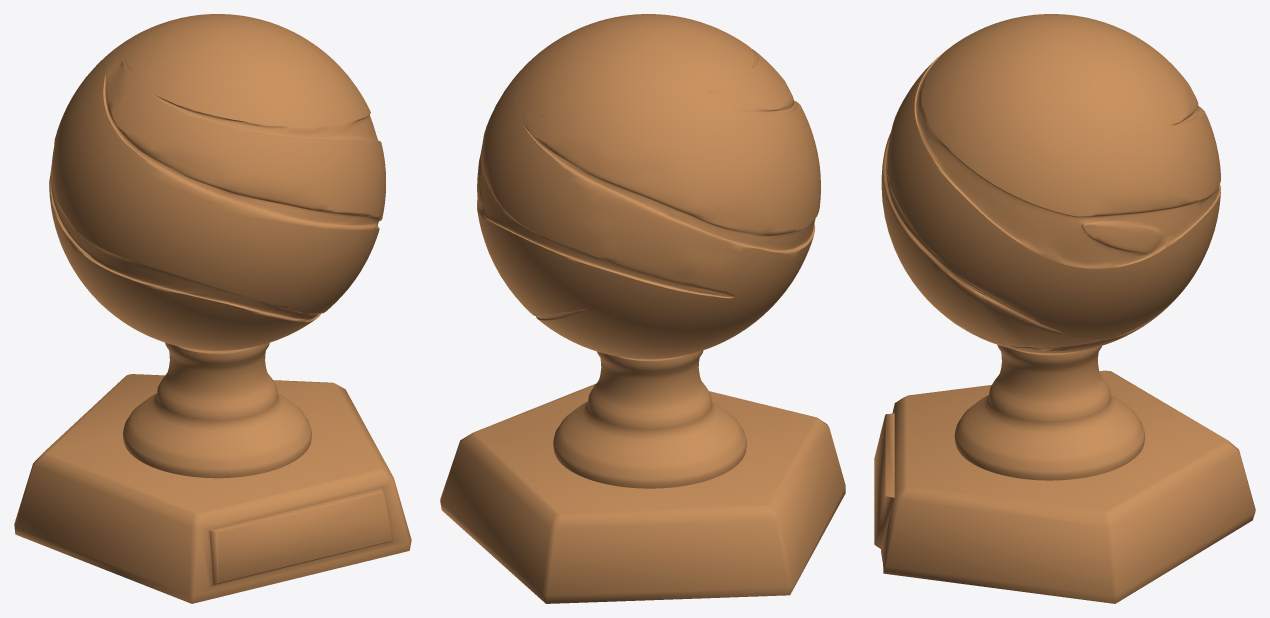
Rendered from bronz_gezegen.glb.
3 renders of one model, left to right at view 1: azimuth 30°, elevation 25°; view 2: azimuth 150°, elevation 25°; view 3: azimuth 270°, elevation 25°, orthographic. The views are drawn at different scales.
Visible parts, largest first — view 1: bronz_gezegen_AO_candidate; view 2: bronz_gezegen_AO_candidate; view 3: bronz_gezegen_AO_candidate.
Boxes of the visible parts, x1,y1,x2,y2 form: bronz_gezegen_AO_candidate: (14, 14, 411, 603); bronz_gezegen_AO_candidate: (440, 14, 845, 603); bronz_gezegen_AO_candidate: (874, 14, 1255, 603).
Bounding box in the file's own units: 0.7418 × 1 × 0.7041.
